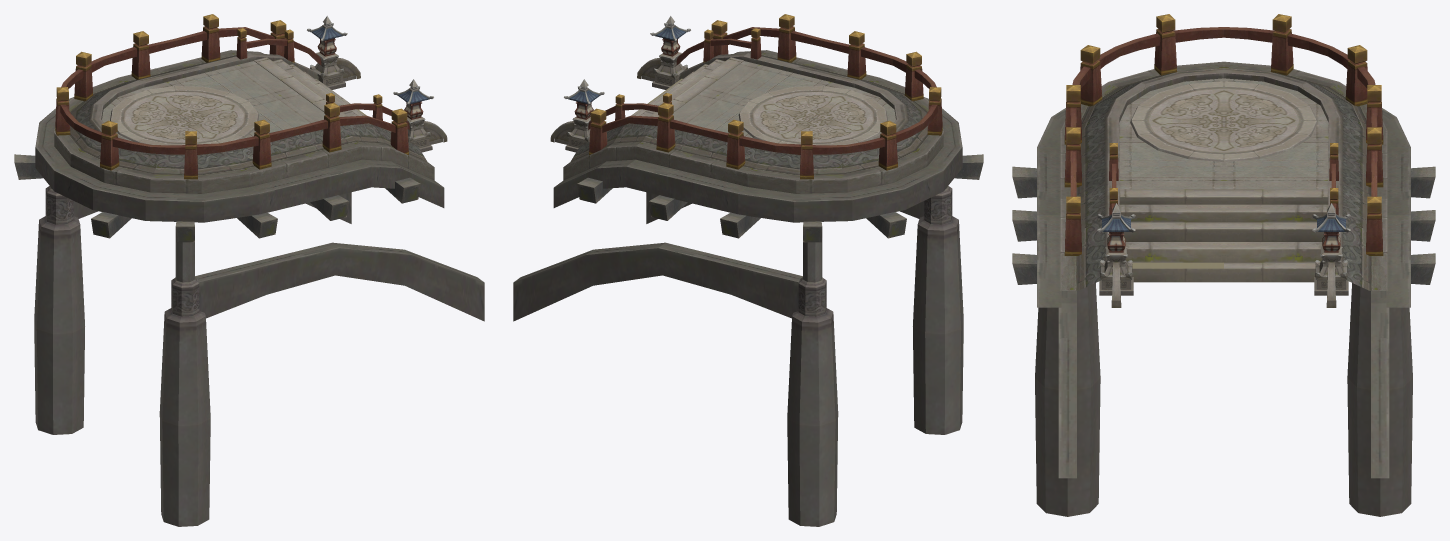
The model's file is cj_luoyang_taizi01_53_32_8334out.fbx.
The picture shows the model from 3 angles, left to right: view 1: azimuth 30°, elevation 25°; view 2: azimuth 150°, elevation 25°; view 3: azimuth 270°, elevation 25°; orthographic projection. The views are drawn at different scales.
Visible parts, largest first — view 1: cj_luoyang_taizi01; view 2: cj_luoyang_taizi01; view 3: cj_luoyang_taizi01.
Part boxes in pixels (box(x1,y1,x2,y2)): cj_luoyang_taizi01: box(14, 14, 484, 526); cj_luoyang_taizi01: box(513, 14, 983, 526); cj_luoyang_taizi01: box(1012, 14, 1435, 516).
Bounding box in the file's own units: 11.34 × 11.11 × 9.14.
